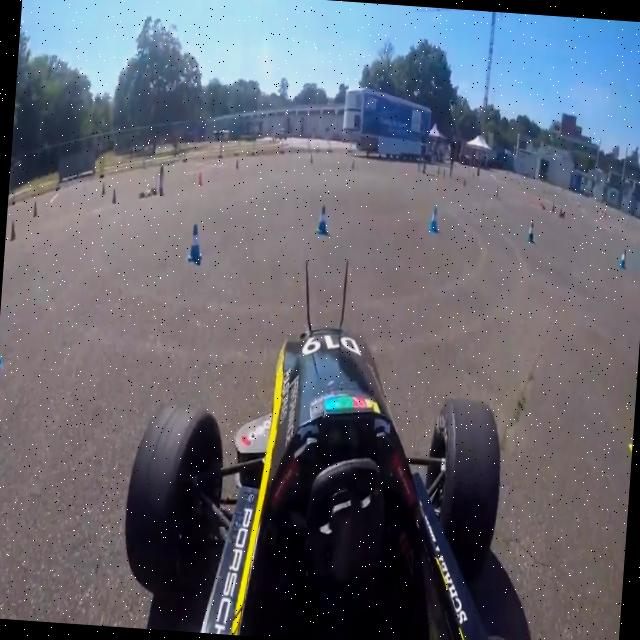blue_cone: (186, 222, 205, 262), (315, 202, 330, 235), (428, 205, 441, 232), (0, 312, 5, 377)
